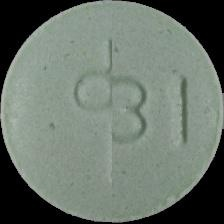51285-120: (0, 0, 224, 224)
